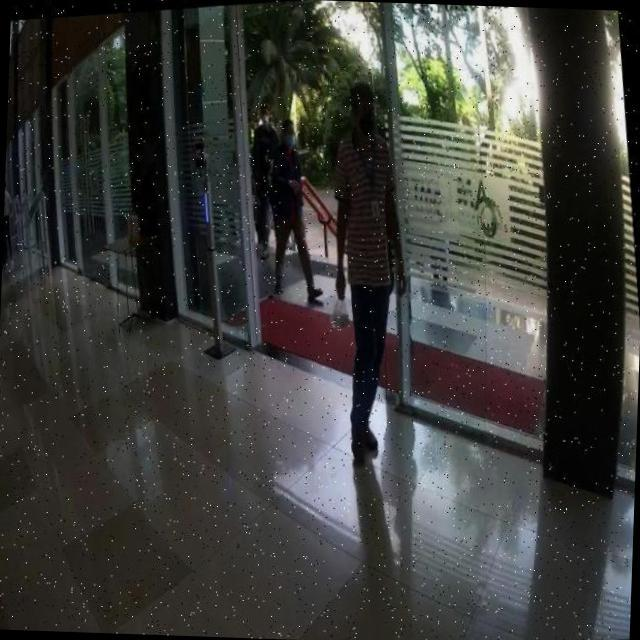person: (308, 82, 428, 466), (256, 111, 324, 302), (241, 100, 293, 261)
